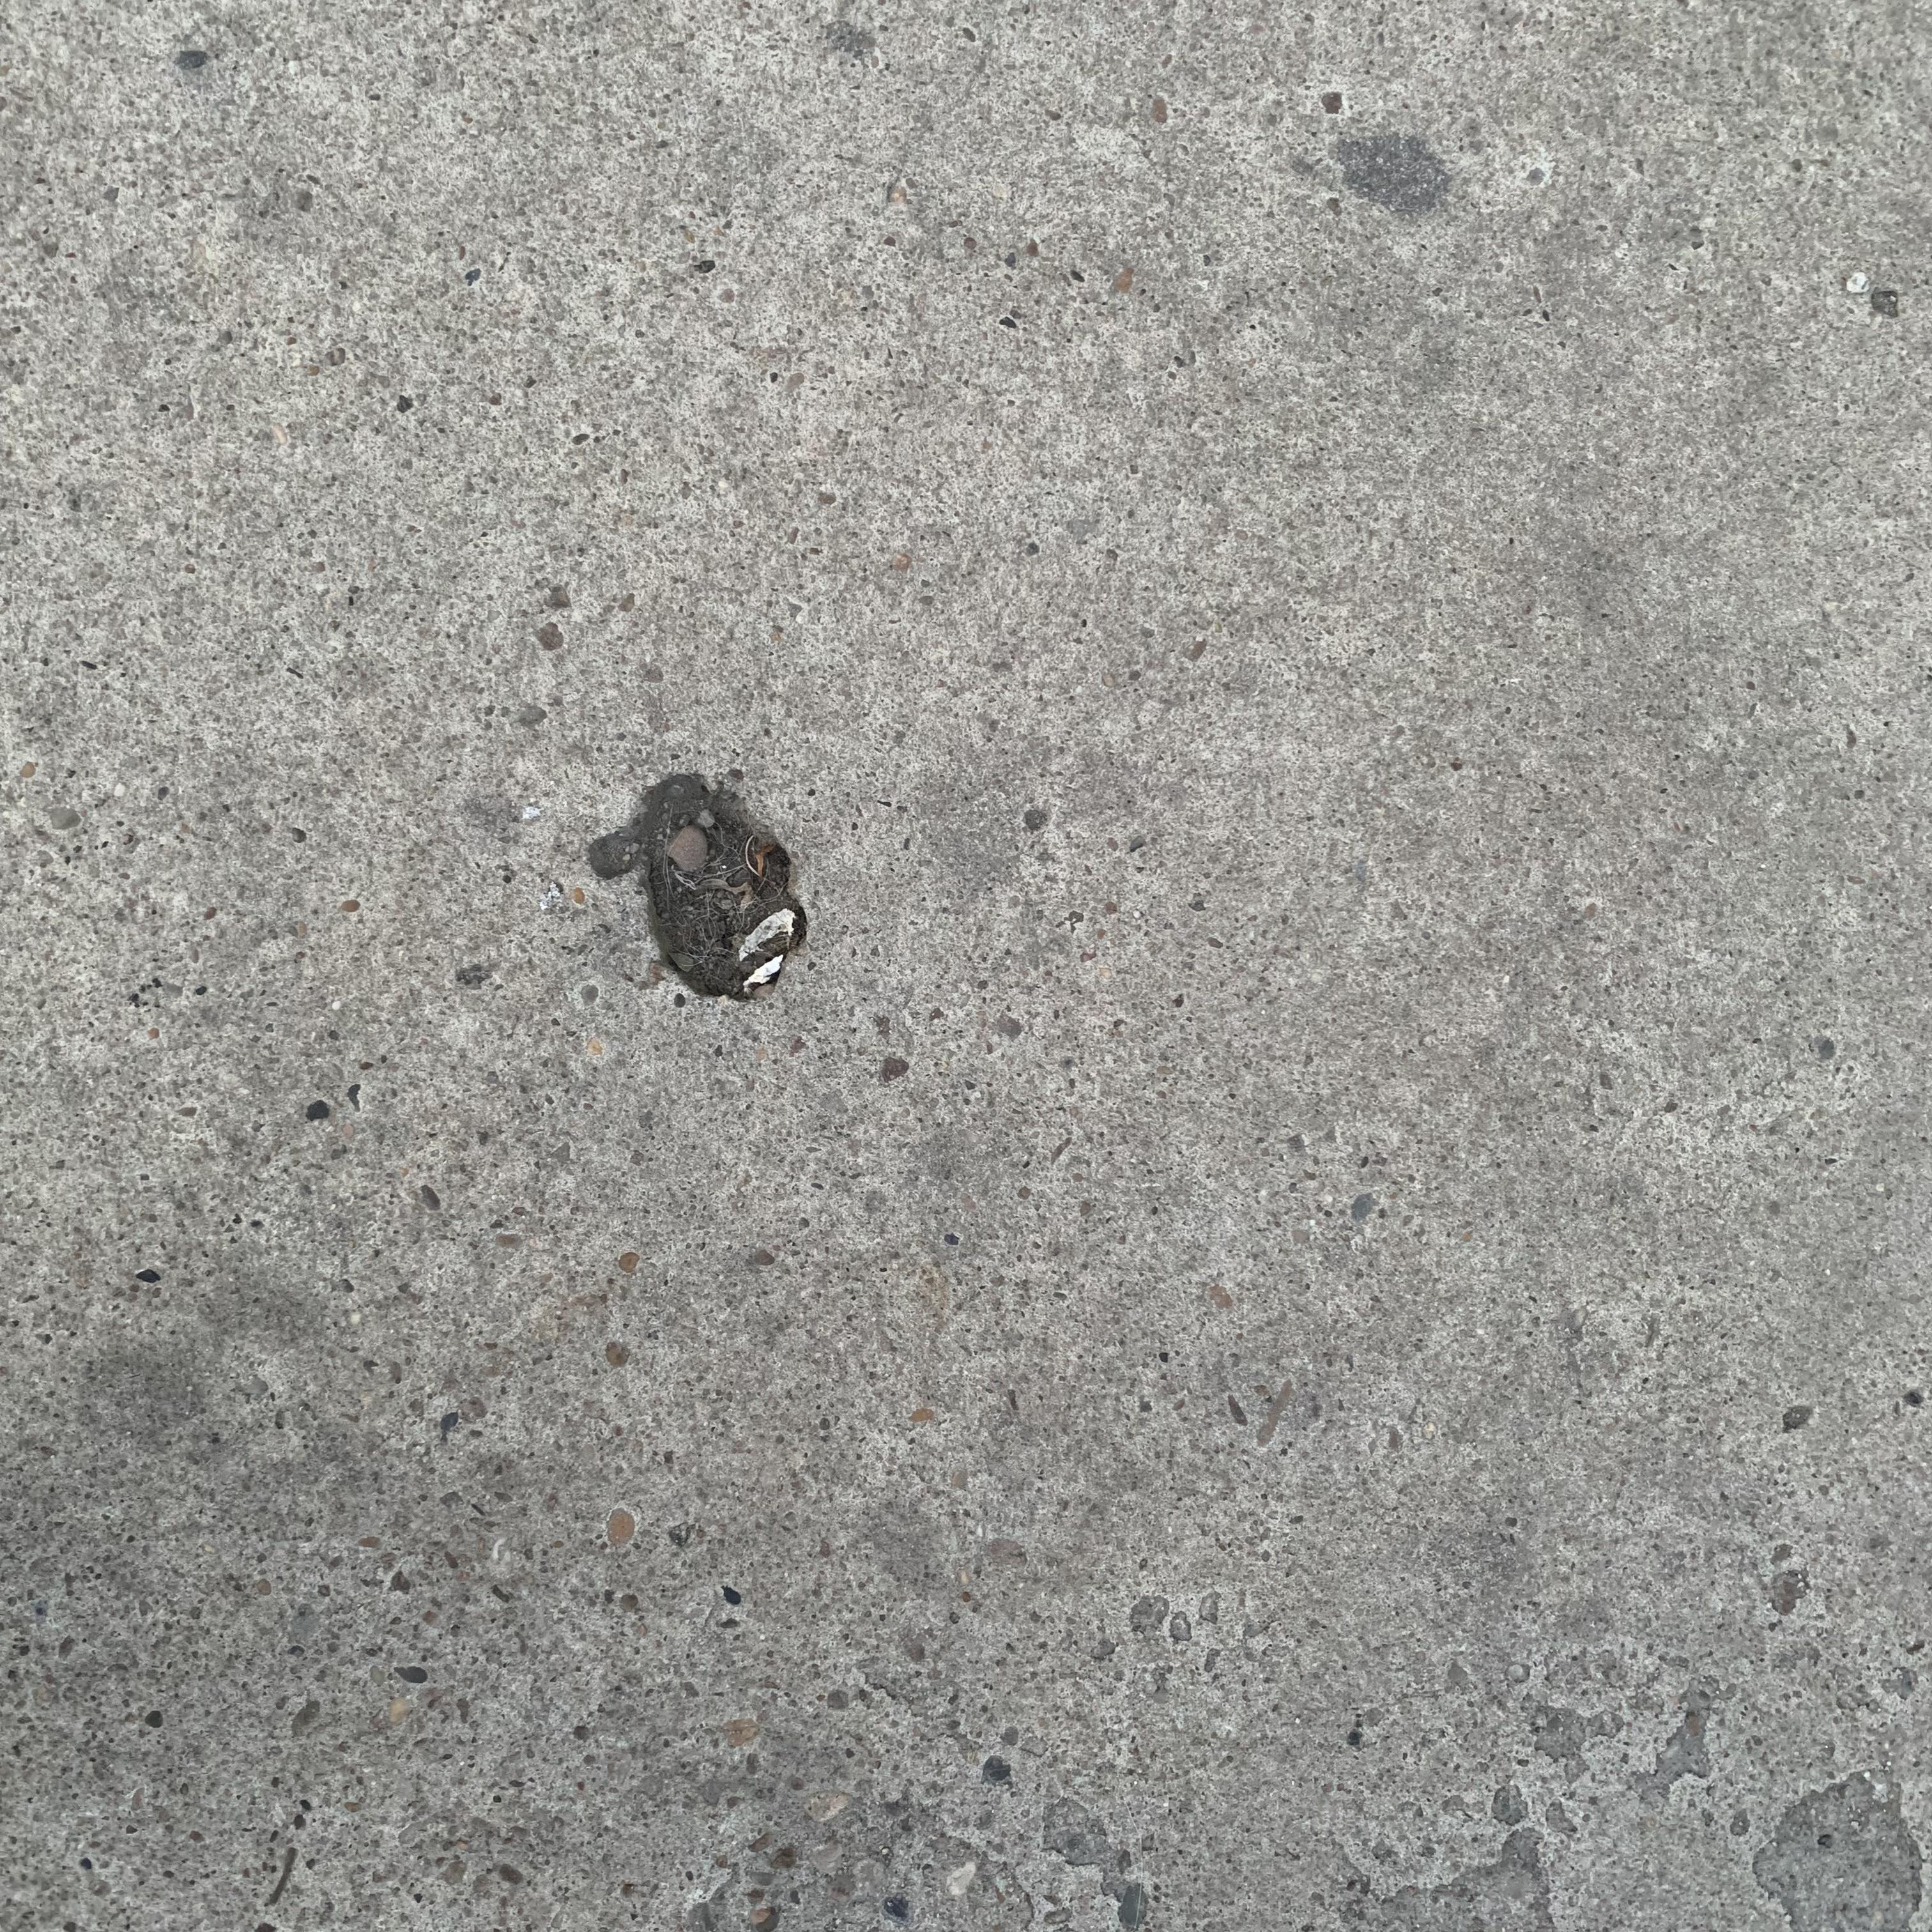grey spot: (587, 773, 812, 1010), (1330, 129, 1451, 223)
